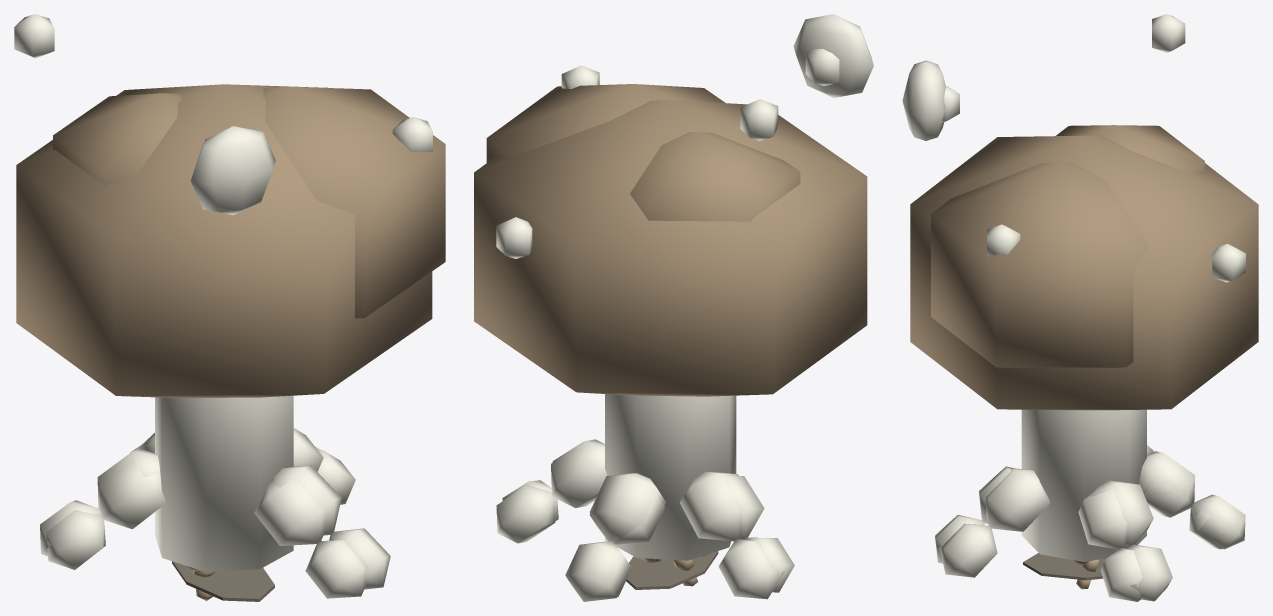
Rendered from moontree.fbx.
3 renders of one model, left to right at view 1: azimuth 30°, elevation 25°; view 2: azimuth 150°, elevation 25°; view 3: azimuth 270°, elevation 25°, orthographic. The views are drawn at different scales.
Parts seen in each view (by area): view 1: PL_moontree; view 2: PL_moontree; view 3: PL_moontree.
Boxes of the visible parts, x1,y1,x2,y2 form: PL_moontree: [14, 14, 445, 601]; PL_moontree: [474, 14, 873, 601]; PL_moontree: [902, 14, 1258, 601].
Bounding box in the file's own units: 106 × 179 × 114.
